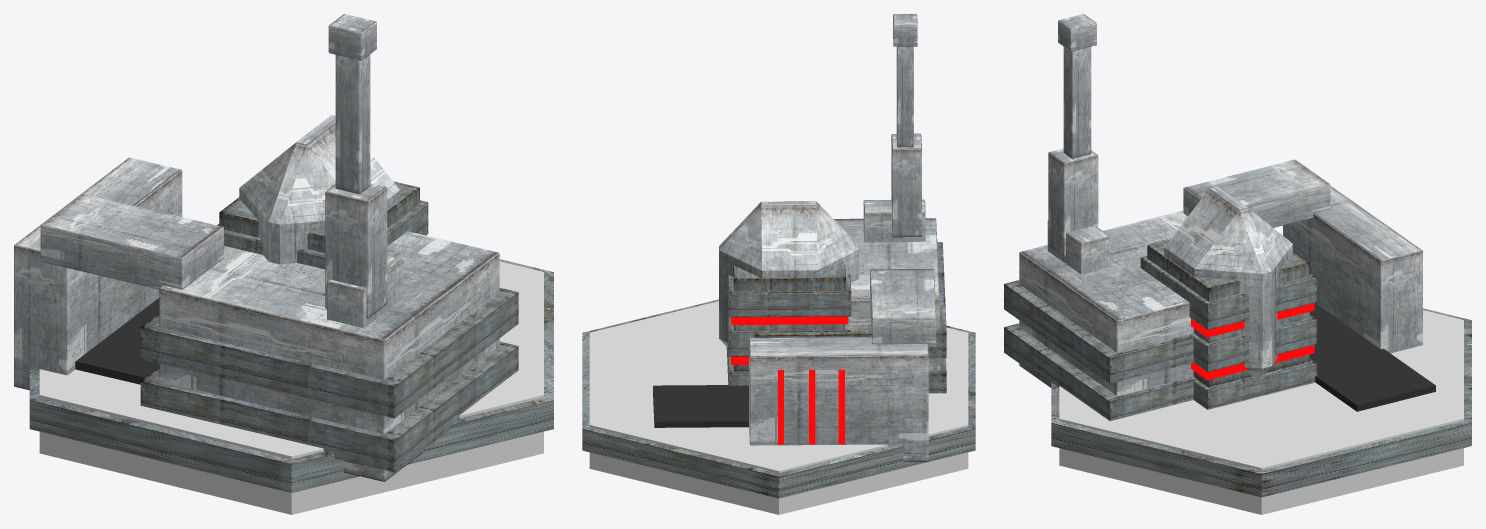
Rendered from armory.fbx.
3 renders of one model, left to right at view 1: azimuth 30°, elevation 25°; view 2: azimuth 150°, elevation 25°; view 3: azimuth 270°, elevation 25°, orthographic. The views are drawn at different scales.
Visible parts, largest first — view 1: Cylinder_2; view 2: Cylinder_2; view 3: Cylinder_2.
Boxes of the visible parts, x1,y1,x2,y2 form: Cylinder_2: [14, 14, 553, 514]; Cylinder_2: [582, 14, 975, 514]; Cylinder_2: [1004, 14, 1471, 514].
Size of the model in its own units: 439 by 373 by 423.
Materials: 6 (3 with a texture image).
